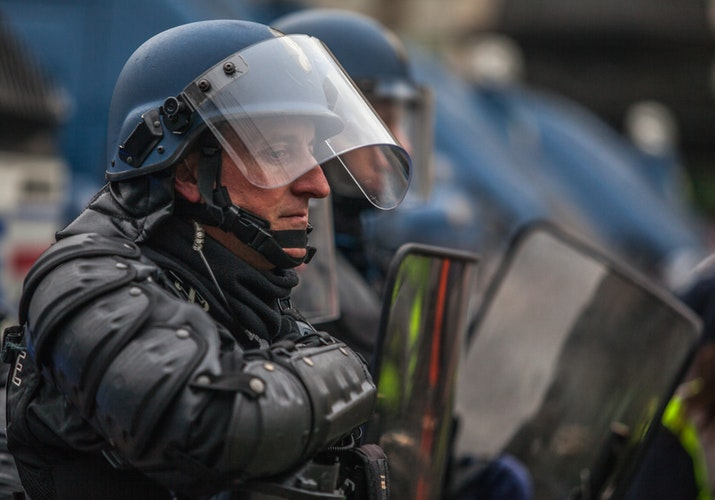helmet: (93, 17, 351, 194)
